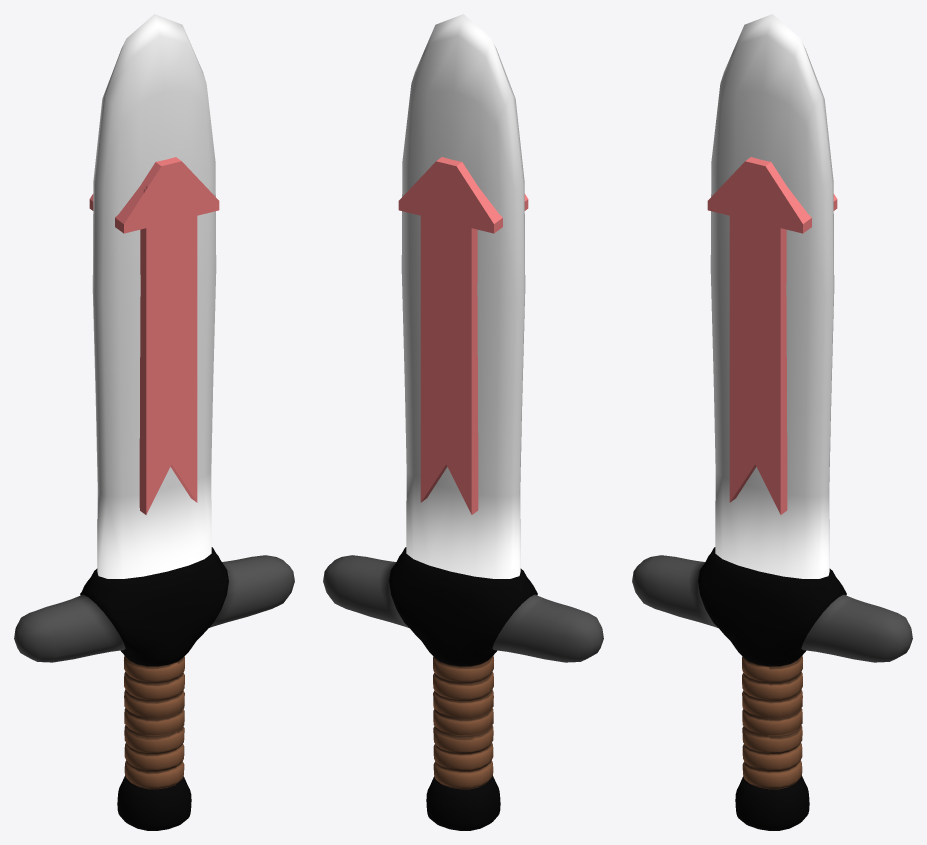
File: GrowthSword.fbx
3 renders of one model, left to right at view 1: azimuth 30°, elevation 25°; view 2: azimuth 150°, elevation 25°; view 3: azimuth 330°, elevation 25°, orthographic.
Visible parts, largest first — view 1: GrowthSword; view 2: GrowthSword; view 3: GrowthSword.
Boxes of the visible parts, x1,y1,x2,y2 form: GrowthSword: [14, 14, 294, 830]; GrowthSword: [323, 14, 603, 830]; GrowthSword: [632, 14, 912, 830].
Size of the model in its own units: 0.4121 by 1.16 by 0.0995.
